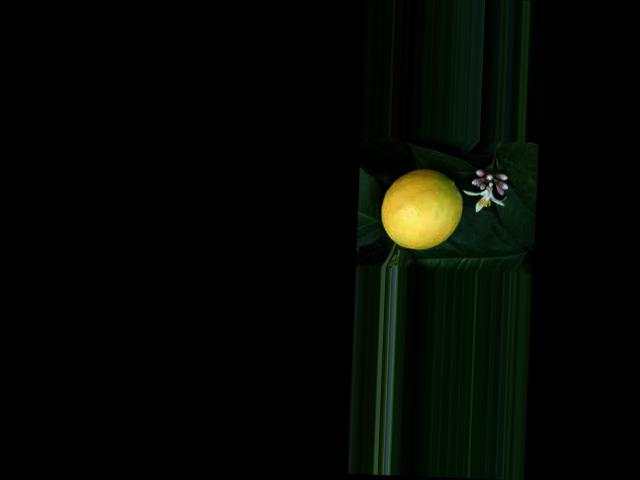lemon: (368, 160, 473, 261)
